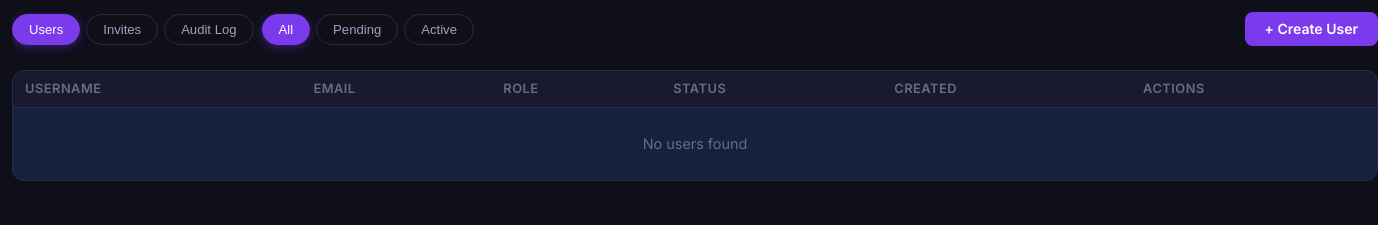
it: UserManagementPage — invites › does not offer a revoke on an invite that is already used
Click the button "Invites": [122, 29] box 86,14 -> 158,44
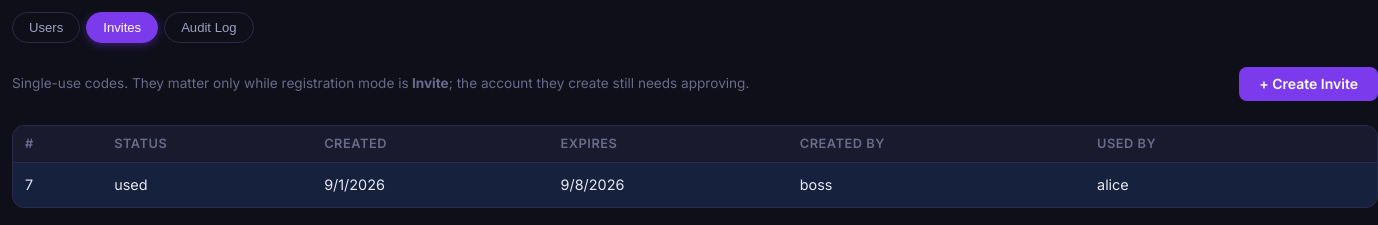
Check: the text "alice" is shown, box 1085,163 -> 1312,206
